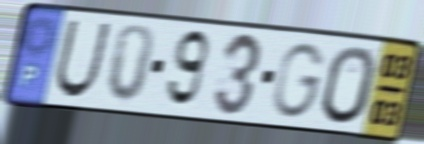0: (105, 22, 157, 107)
3: (212, 30, 263, 119)
9: (162, 27, 212, 112)
G: (270, 40, 329, 121)
O: (319, 43, 378, 127)
U: (52, 17, 114, 101)
